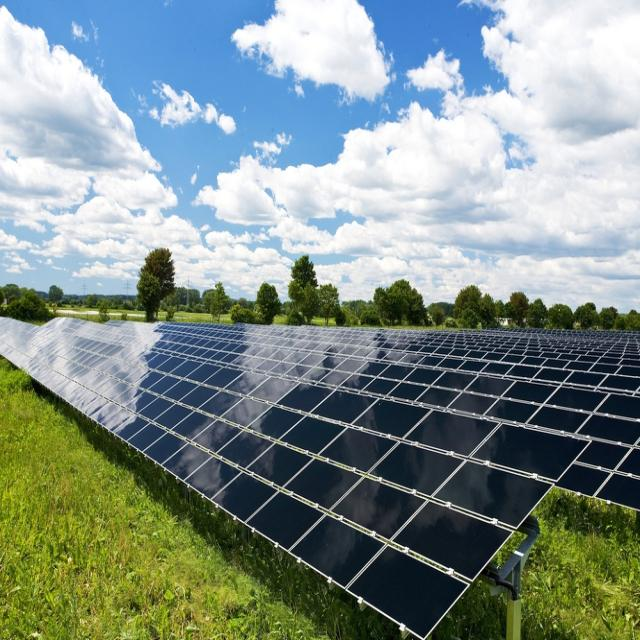clean-solar-panel: (0, 317, 640, 637)
